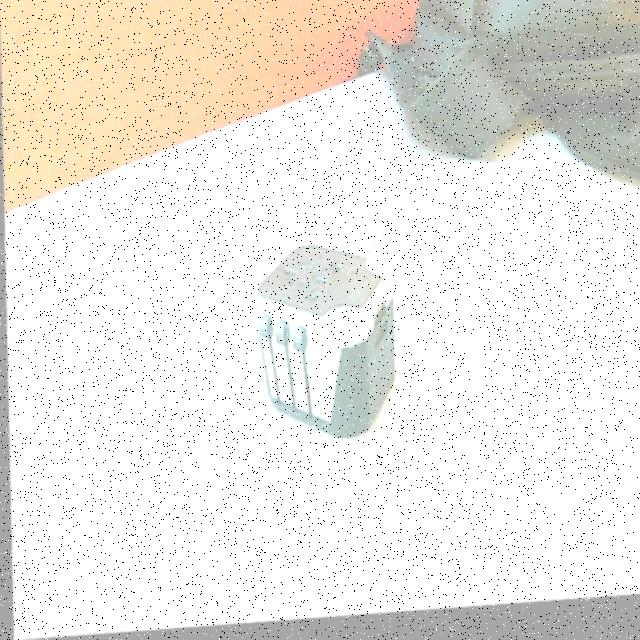adapter: (251, 240, 395, 449)
